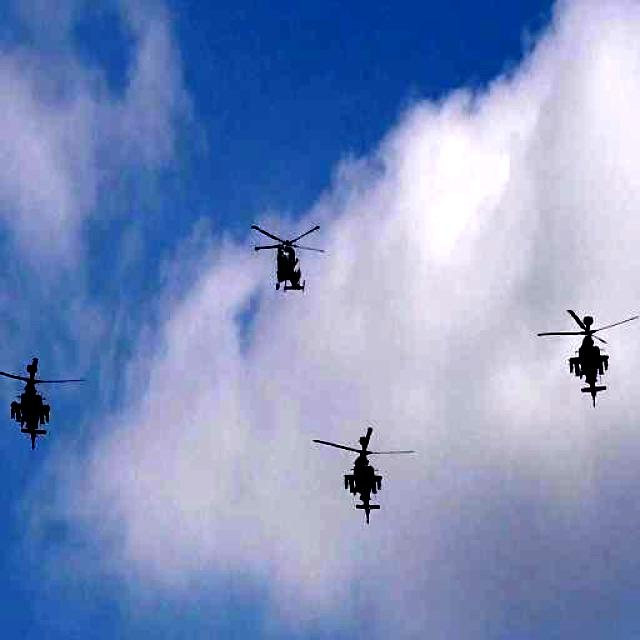drone: (534, 294, 640, 418), (309, 419, 418, 531), (0, 350, 88, 449), (250, 220, 331, 301)
